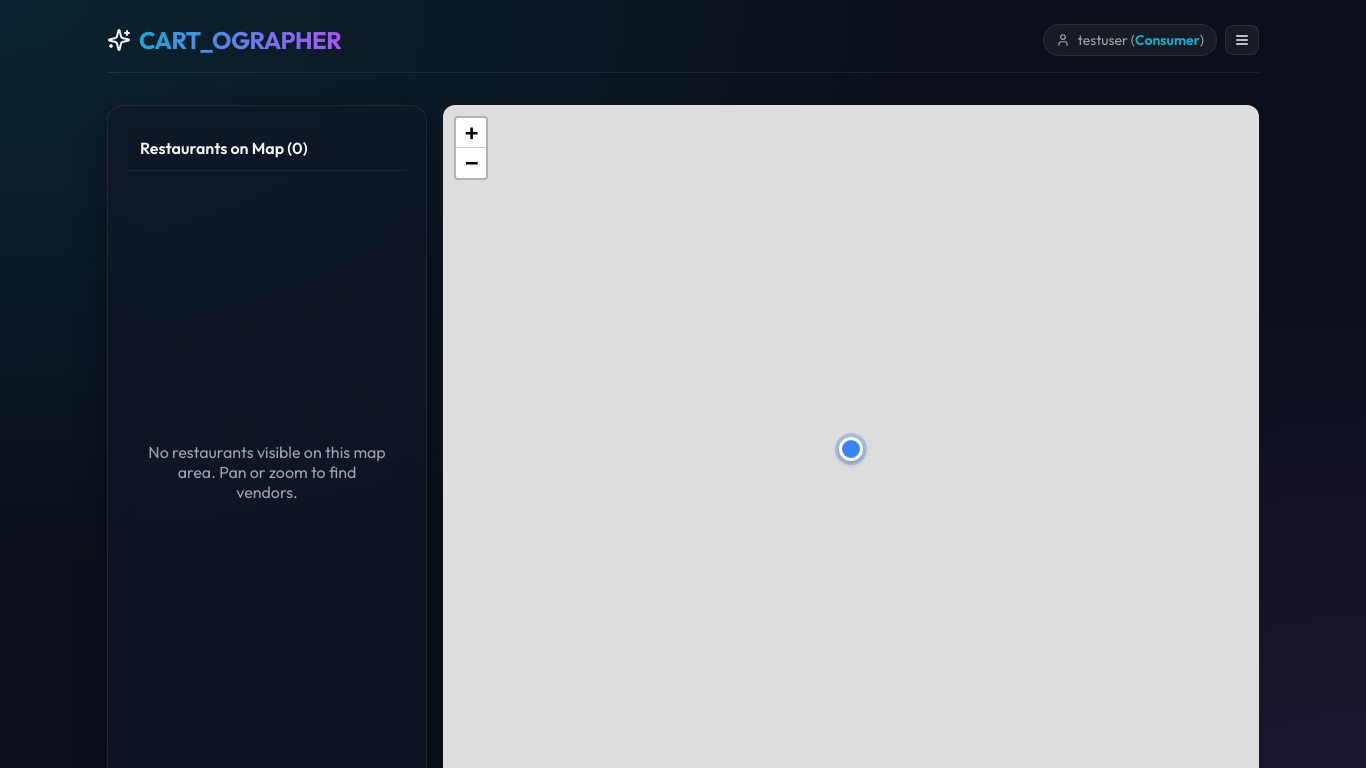
it: Web UI - App Component › Consumer sees Add to Favorites button on restaurant detail
This screenshot has width=1366, height=768.
What coordinates should you click on to do the following:
click the button named "menu"
I would click on:
 (1242, 40)
Its box is [1225,25,1259,55].
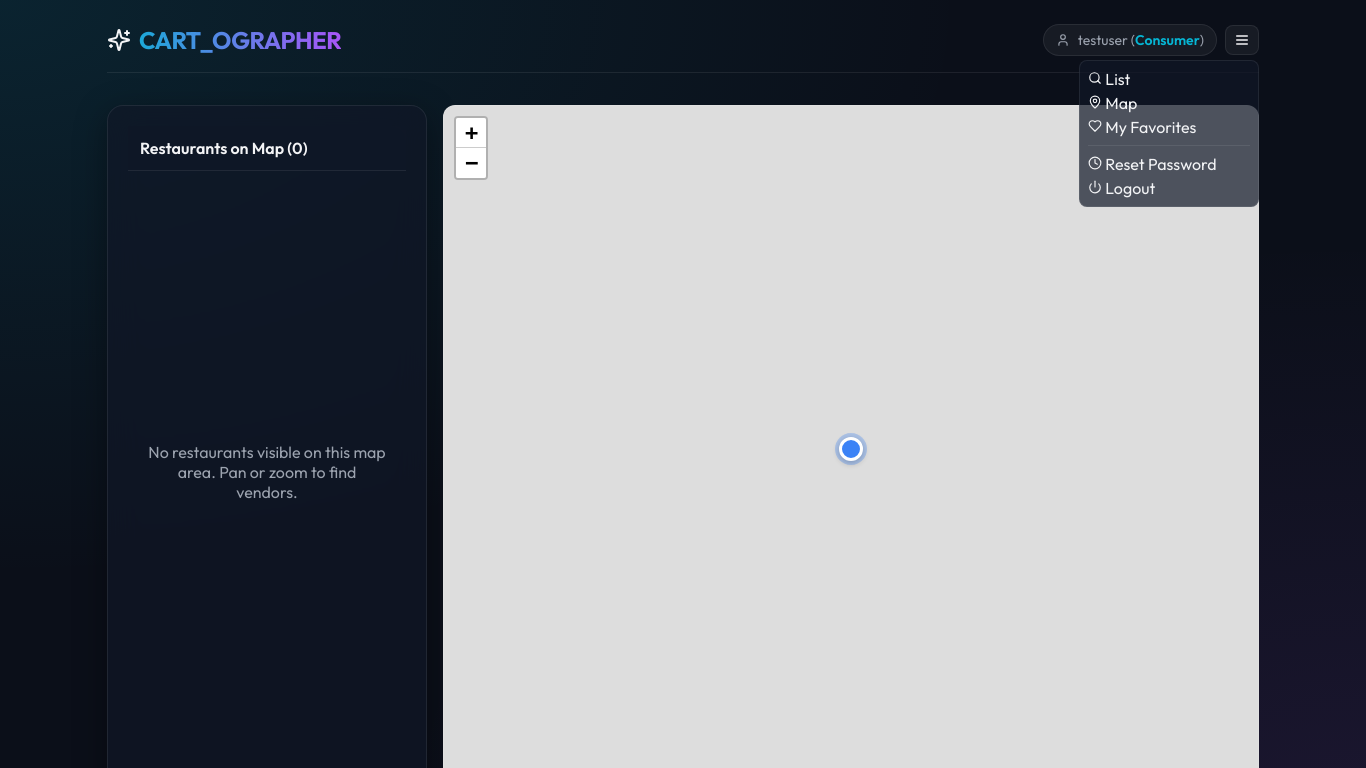
What coordinates should you click on to do the following:
click the text "List"
I would click on:
 (1109, 79)
Its box is [1088,69,1130,89].
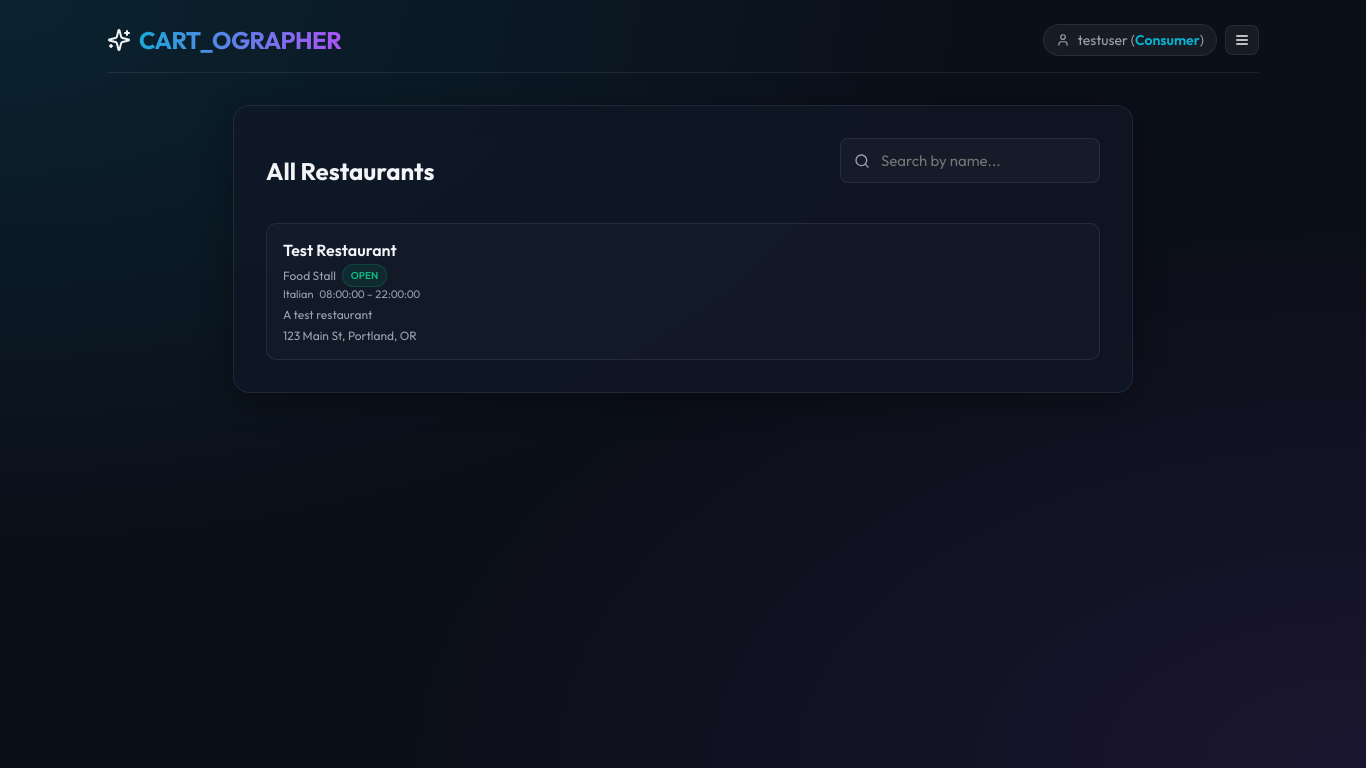
Check: the text "Test Restaurant" is shown
What coordinates should you click on to do the following:
click the text "Test Restaurant"
I would click on:
 (340, 250)
Its box is [283,240,397,260].
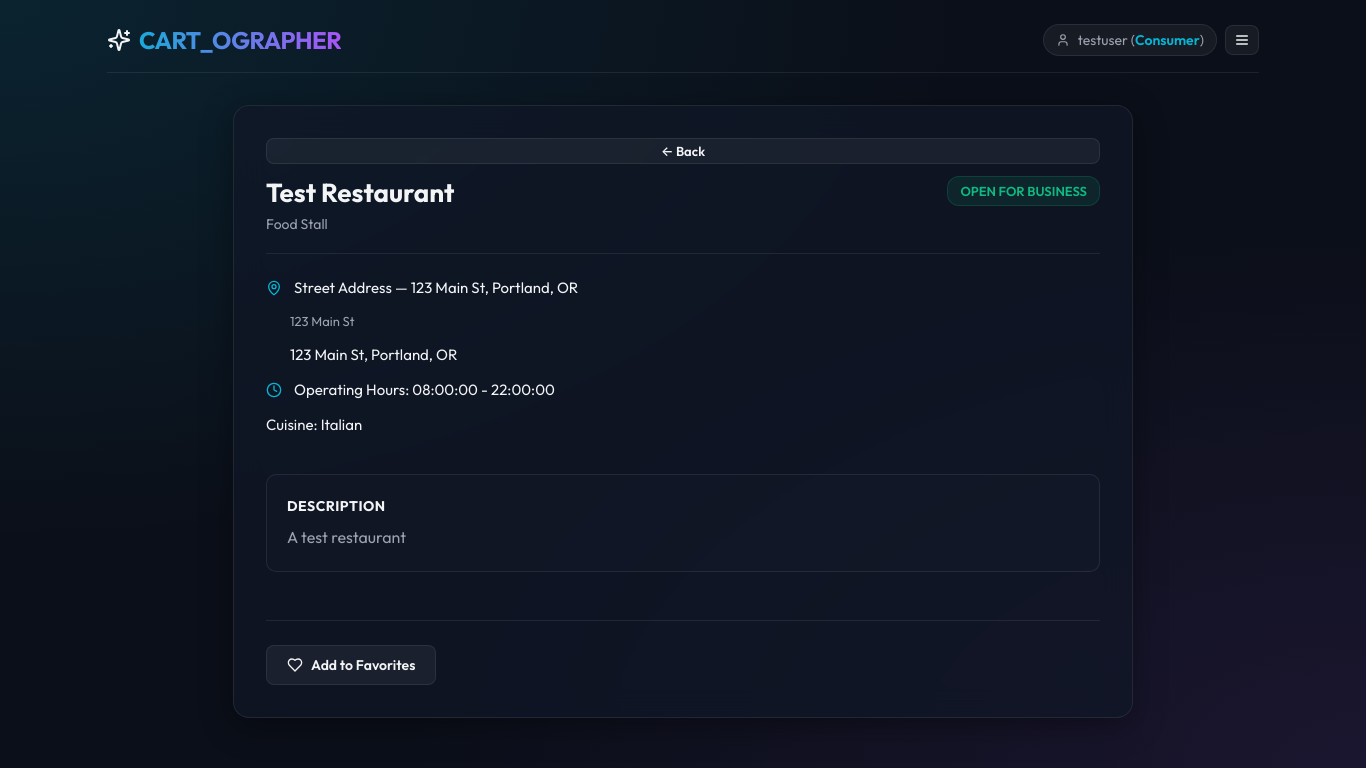
Check: the button "Add to Favorites" is shown, box [266,645,436,685]
